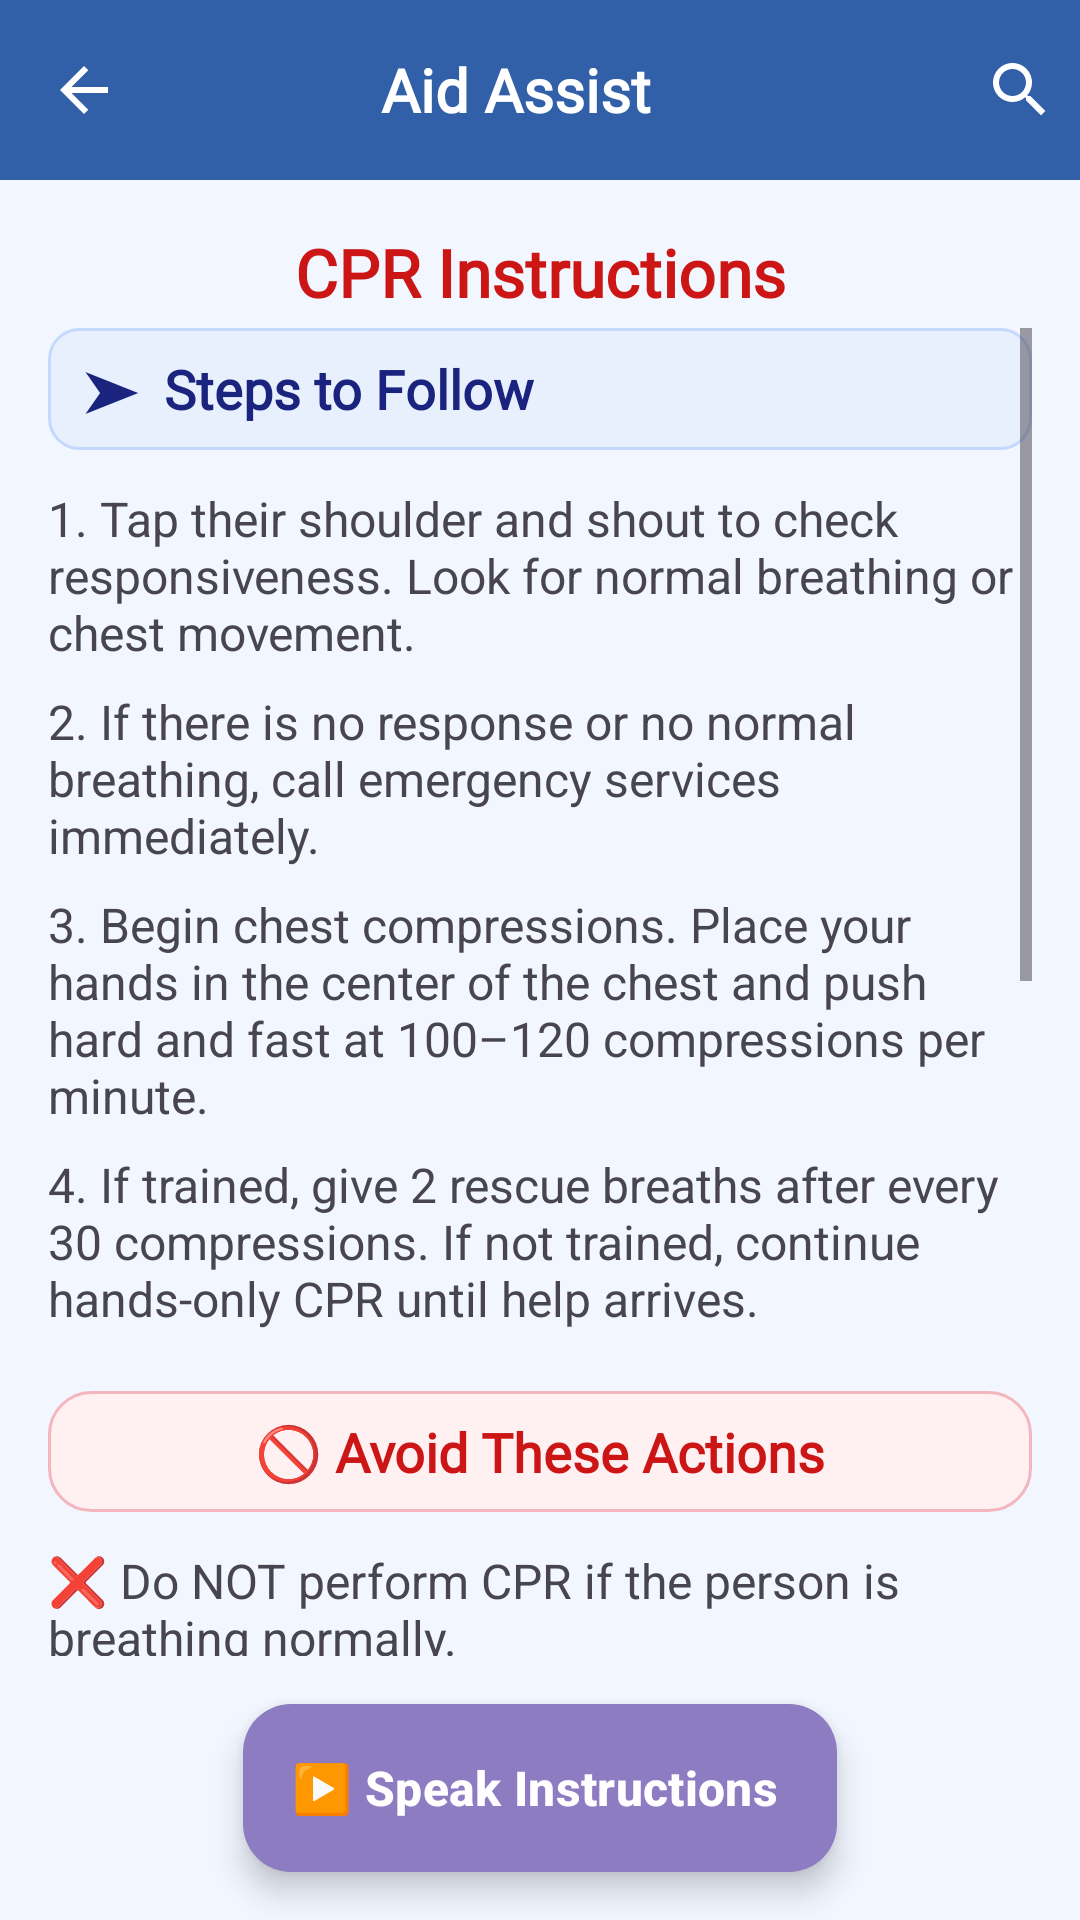

Screen size 1080w x 1920h. Icon name, then its center in pixels as (x,y):
Back: (84,90)
Toggle Search: (1019,89)
